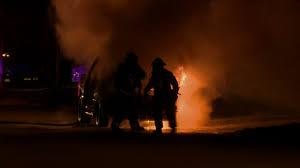fire: (157, 61, 196, 95)
smoke: (49, 0, 300, 126)
